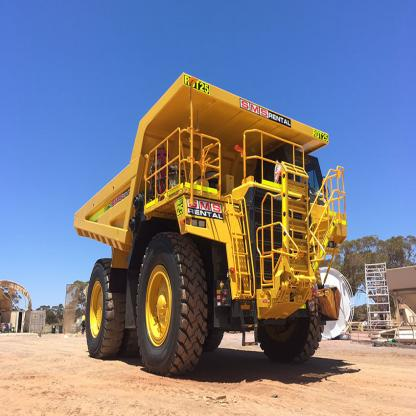dump_truck: (73, 68, 347, 372)
